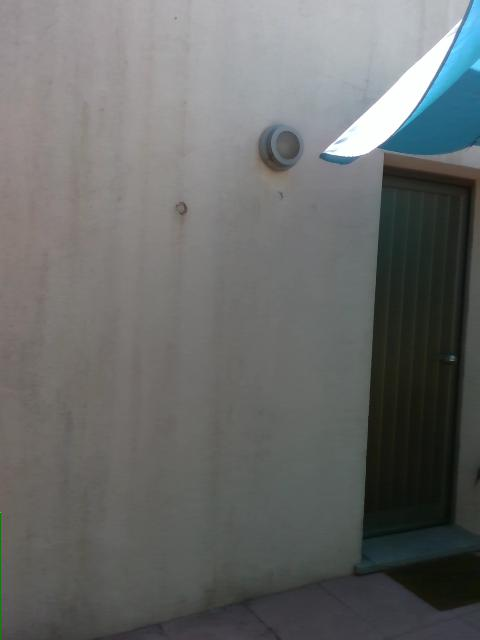door: (358, 150, 479, 566)
